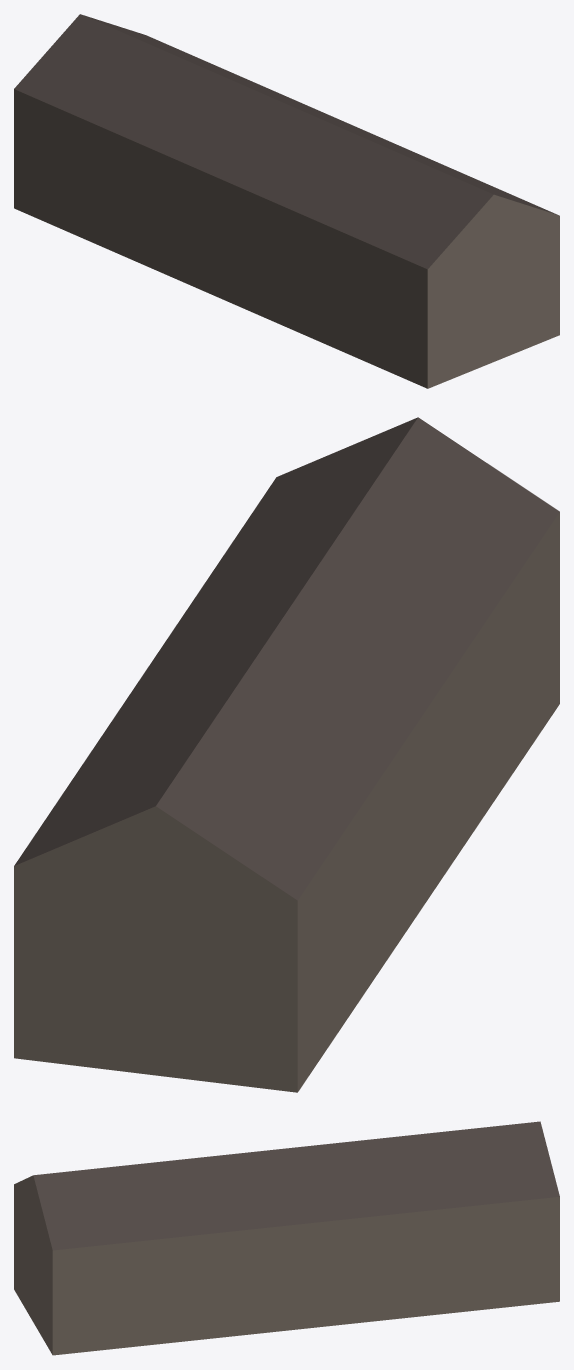
The picture shows the model from 3 angles, top to bottom: view 1: azimuth 30°, elevation 25°; view 2: azimuth 150°, elevation 25°; view 3: azimuth 270°, elevation 25°; orthographic projection. The views are drawn at different scales.
Parts seen in each view (by area): view 1: HP-w1376988671; view 2: HP-w1376988671; view 3: HP-w1376988671.
Part boxes in pixels (bbox=[...]): HP-w1376988671: bbox=[14, 14, 559, 388]; HP-w1376988671: bbox=[14, 417, 559, 1092]; HP-w1376988671: bbox=[14, 1121, 559, 1355].
Size of the model in its own units: 14.7 by 8.41 by 28.28.
